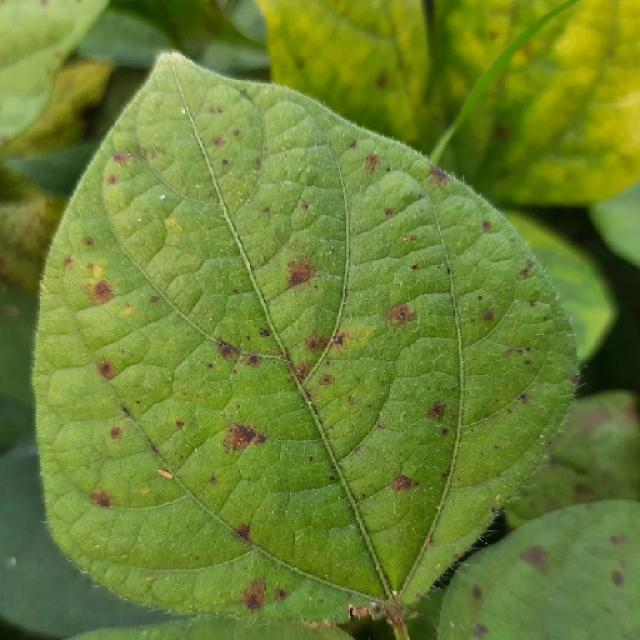Anthracnose: (239, 576, 296, 616), (279, 252, 326, 292), (303, 328, 345, 354), (381, 602, 411, 637), (384, 301, 415, 329), (227, 423, 259, 450), (85, 279, 116, 306), (525, 545, 548, 567), (216, 338, 240, 359), (163, 216, 183, 241), (390, 474, 417, 492), (89, 489, 112, 509), (428, 165, 449, 185), (425, 402, 447, 421), (97, 360, 116, 380), (517, 259, 535, 279), (245, 592, 263, 611), (234, 523, 252, 541), (364, 153, 380, 173), (291, 365, 308, 383), (111, 151, 131, 166), (610, 569, 625, 587), (493, 124, 509, 140), (609, 533, 628, 546), (470, 583, 483, 602), (119, 303, 135, 318), (245, 353, 262, 367), (375, 72, 389, 89), (318, 373, 334, 387), (301, 386, 315, 402), (91, 263, 104, 280), (109, 426, 123, 440), (156, 468, 173, 479), (212, 136, 225, 148), (483, 309, 495, 322), (106, 173, 118, 186), (570, 372, 582, 385), (482, 220, 493, 232), (259, 327, 271, 338), (402, 234, 416, 243), (83, 236, 94, 247), (384, 207, 395, 217), (300, 200, 309, 211), (349, 139, 358, 150), (175, 420, 185, 429), (149, 295, 160, 303), (410, 263, 420, 271), (221, 159, 229, 166)
Blackgram: (34, 52, 576, 639)
